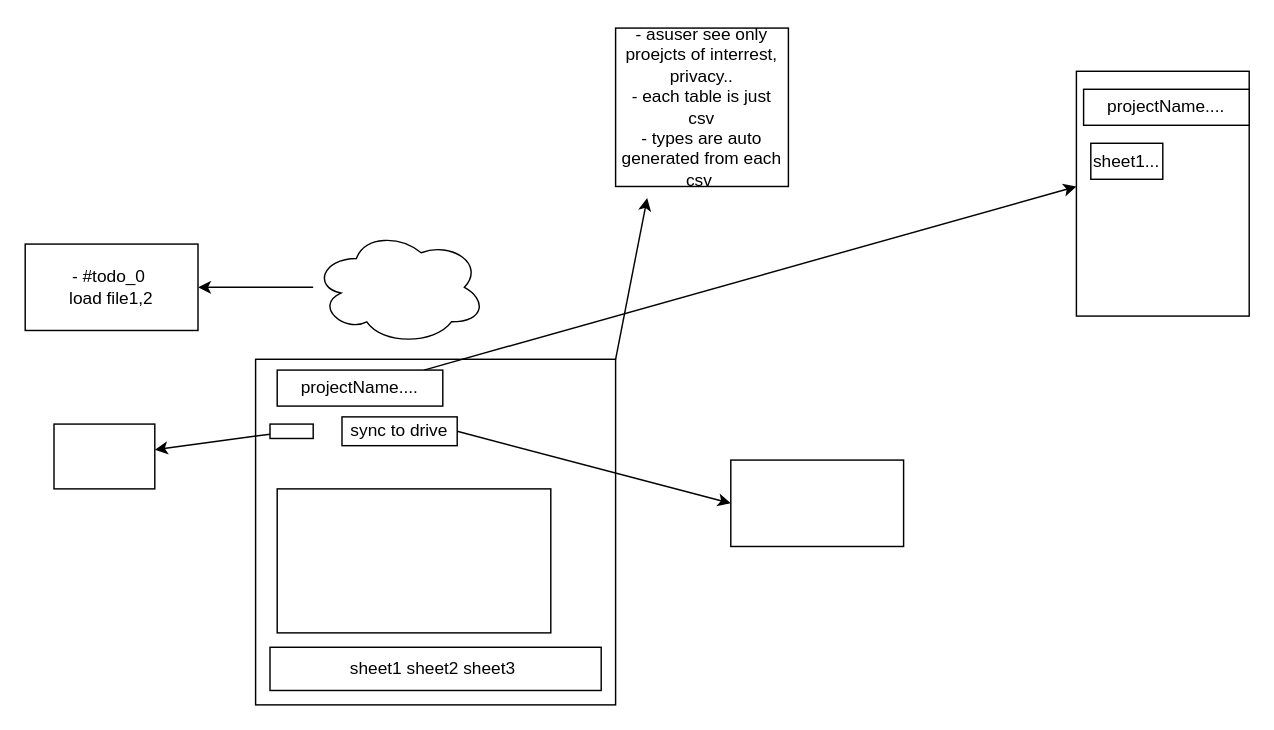
This 1274x730 diagram has some shape labels left out. Each missing label, with the centre of its shape:
#todo_0 asUSer onClick overwrite in the file, add commit: (x=816, y=502)
#todo_2 autosync: (x=104, y=456)
start: (x=399, y=286)
Table: (x=413, y=560)
